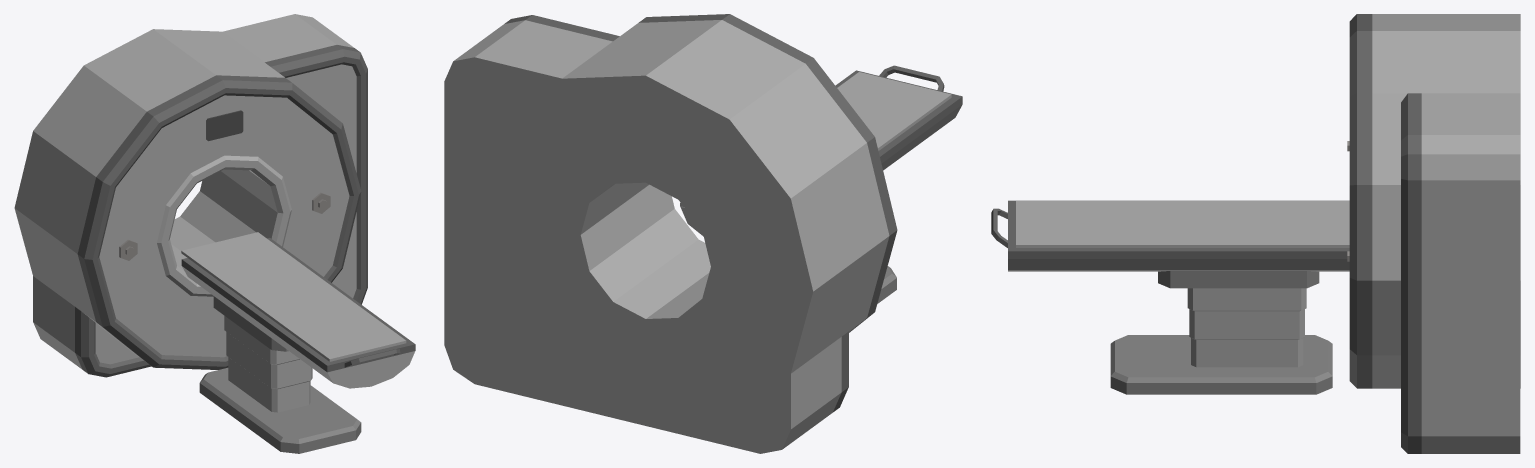
The model's file is SM_Props_Interior_Generic_Hospital_CT_Scan.fbx.
3 renders of one model, left to right at view 1: azimuth 30°, elevation 25°; view 2: azimuth 150°, elevation 25°; view 3: azimuth 270°, elevation 25°, orthographic. The views are drawn at different scales.
Parts seen in each view (by area): view 1: SM_Props_Interior_Generic_Hospital_CT_Scan, SM_Props_Interior_Generic_Hospital_CT_Scan_Bed; view 2: SM_Props_Interior_Generic_Hospital_CT_Scan, SM_Props_Interior_Generic_Hospital_CT_Scan_Bed; view 3: SM_Props_Interior_Generic_Hospital_CT_Scan, SM_Props_Interior_Generic_Hospital_CT_Scan_Bed.
Part boxes in pixels (left/top/right/bottom): SM_Props_Interior_Generic_Hospital_CT_Scan: left=14, top=14, right=367, bottom=453; SM_Props_Interior_Generic_Hospital_CT_Scan_Bed: left=181, top=232, right=415, bottom=388; SM_Props_Interior_Generic_Hospital_CT_Scan: left=444, top=14, right=897, bottom=453; SM_Props_Interior_Generic_Hospital_CT_Scan_Bed: left=680, top=65, right=962, bottom=236; SM_Props_Interior_Generic_Hospital_CT_Scan: left=1110, top=14, right=1520, bottom=453; SM_Props_Interior_Generic_Hospital_CT_Scan_Bed: left=991, top=200, right=1349, bottom=271.
Size of the model in its own units: 243 by 220 by 310.
